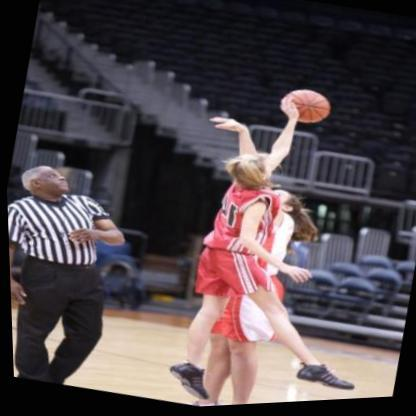basketball: (277, 87, 334, 131)
